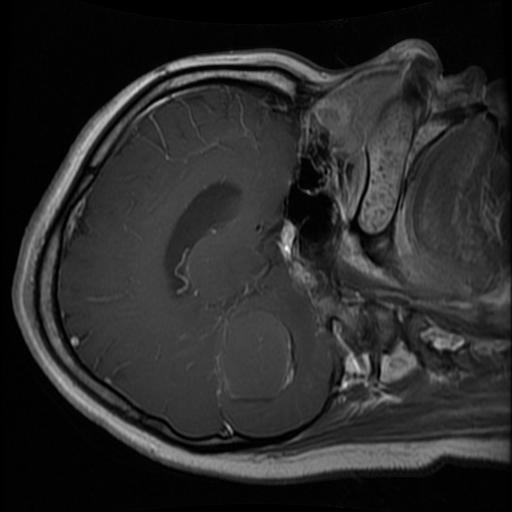glioma: (218, 310, 294, 405)
